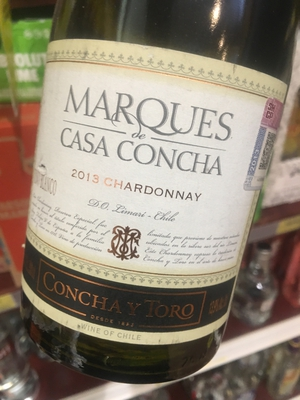marques de casa concha chardonnay: (28, 8, 283, 357)
